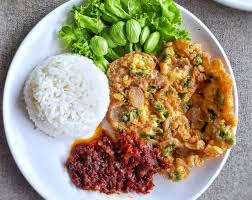Nasi putih: (24, 48, 112, 138)
Telur dadar: (101, 39, 237, 181)
